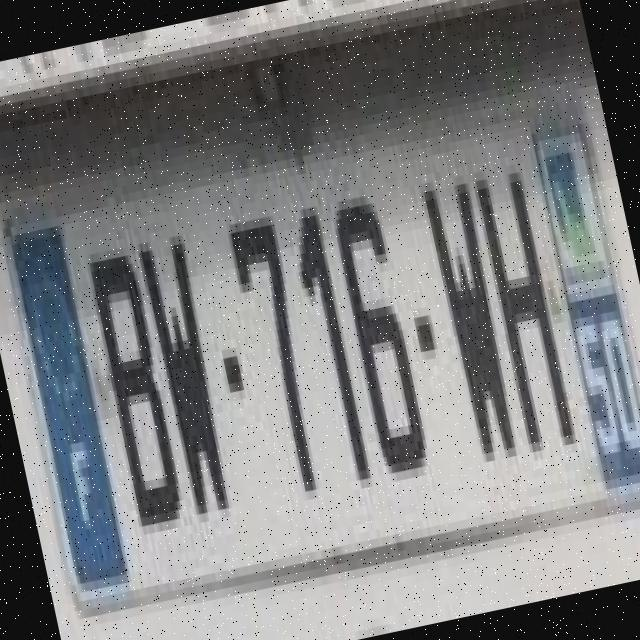EU: (0, 86, 640, 623)
France: (3, 214, 128, 586)
